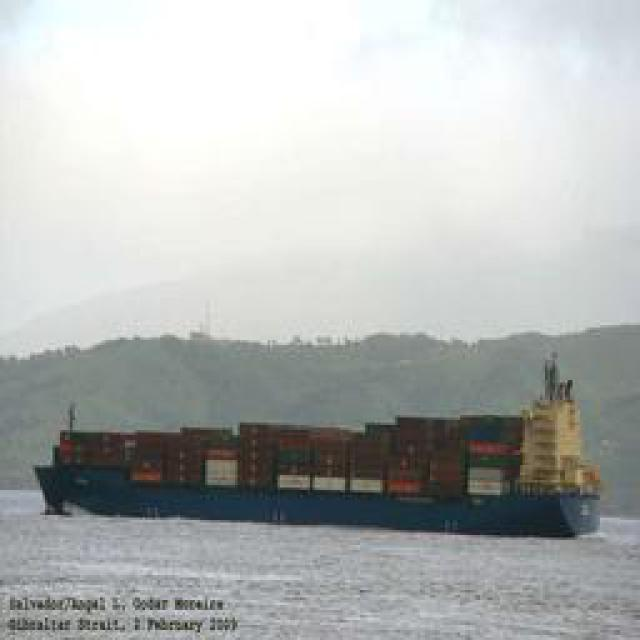Ship: (27, 399, 617, 539)
